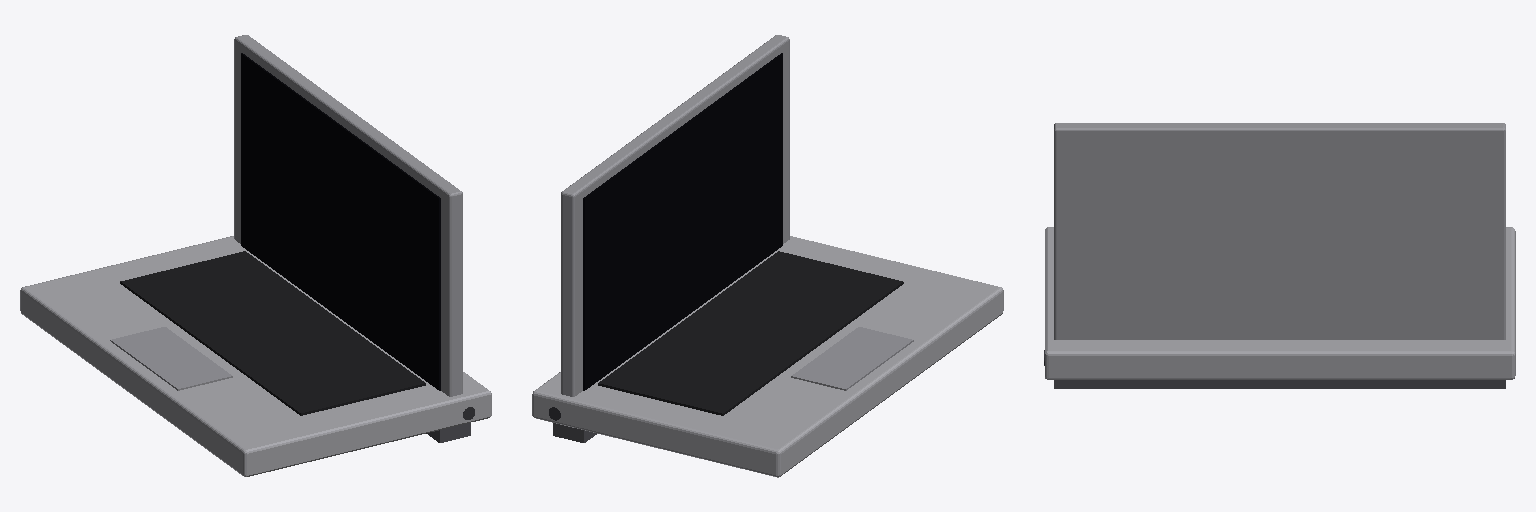
URDF robot description (notebook_2):
<?xml version='1.0' encoding='utf-8'?>
<!-- Video2URDF model "notebook", measured from a video (https://github.com/SungHyunC/video2urdf).
     Mesh and texture paths are relative to this file (meshes/...): this file alone won't load;
     unzip model.zip (the viewer's "Download model + meshes") and load it from there.
     Units: metres, kilograms, radians. Fix the root link "base".
     Collisions are the measured geometry; visuals may be the design, video texture or SAM 3D mesh.
     PyBullet: loadURDF(path, useFixedBase=True, flags=URDF_USE_INERTIA_FROM_FILE).
       PyBullet doesn't apply <dynamics friction>: set VELOCITY_CONTROL, targetVelocity=0,
       force=friction on each joint.
     The collision of "base" (pieces named *_clear_*) is its measured shape trimmed where the
       part jointed to it swings through it over the measured range, so loaders that collide a
       part with the root (MuJoCo's URDF import) don't push it away; inertials are unchanged.
       MuJoCo 3.2.5+: model.xml keeps the untrimmed shapes and excludes those contacts.
     The <mujoco> element only keeps mesh paths for MuJoCo's URDF import; other parsers ignore it.
     ROS: mesh paths must become package://<your_package>/meshes/... for RViz and Gazebo. -->
<robot name="notebook_2">
  <mujoco>
    <compiler strippath="false" />
  </mujoco>
  <link name="base">
    <visual name="design_base_0">
      <origin xyz="0.00000 0.00000 0.00000" rpy="0.00000 0.00000 0.00000" />
      <geometry>
        <mesh filename="meshes/design_base_0.obj" />
      </geometry>
      <material name="design_base_0_color">
        <color rgba="0.67000 0.67000 0.69000 1" />
      </material>
    </visual>
    <visual name="design_base_1">
      <origin xyz="0.02000 0.00000 0.01275" rpy="0.00000 0.00000 0.00000" />
      <geometry>
        <box size="0.08000 0.20000 0.00150" />
      </geometry>
      <material name="design_base_1_color">
        <color rgba="0.16000 0.16000 0.17000 1" />
      </material>
    </visual>
    <visual name="design_base_2">
      <origin xyz="-0.04500 0.00000 0.01250" rpy="0.00000 0.00000 0.00000" />
      <geometry>
        <box size="0.03500 0.07500 0.00100" />
      </geometry>
      <material name="design_base_2_color">
        <color rgba="0.60000 0.60000 0.62000 1" />
      </material>
    </visual>
    <visual name="design_base_3">
      <origin xyz="0.07330 0.00000 0.00170" rpy="-1.57080 -1.57080 0.00000" />
      <geometry>
        <cylinder radius="0.00400" length="0.25000" />
      </geometry>
      <material name="design_base_3_color">
        <color rgba="0.25000 0.25000 0.27000 1" />
      </material>
    </visual>
    <inertial>
      <origin xyz="0.000983581 -7.74387e-19 0.00511656" rpy="1.5708 -1.50883 0" />
      <mass value="0.95" />
      <inertia ixx="0.00863463" ixy="0" ixz="0" iyy="0.0071381" iyz="0" izz="0.00152273" />
    </inertial>
    <collision name="base_clear_0">
      <origin xyz="0 0 0" rpy="0 0 0" />
      <geometry>
        <mesh filename="meshes/base_clear_0.obj" />
      </geometry>
    </collision>
    <collision name="base_clear_1">
      <origin xyz="0 0 0" rpy="0 0 0" />
      <geometry>
        <mesh filename="meshes/base_clear_1.obj" />
      </geometry>
    </collision>
    <collision name="base_clear_2">
      <origin xyz="0 0 0" rpy="0 0 0" />
      <geometry>
        <mesh filename="meshes/base_clear_2.obj" />
      </geometry>
    </collision>
  </link>
  <link name="lid">
    <visual name="design_lid_0">
      <origin xyz="-0.00590 0.00000 -0.00420" rpy="0.00000 0.00000 0.00000" />
      <geometry>
        <box size="0.02020 0.24000 0.02440" />
      </geometry>
      <material name="design_lid_0_color">
        <color rgba="0.35000 0.35000 0.37000 1" />
      </material>
    </visual>
    <visual name="design_lid_1">
      <origin xyz="0.00000 0.00000 0.00000" rpy="0.00000 0.00000 0.00000" />
      <geometry>
        <mesh filename="meshes/design_lid_1.obj" />
      </geometry>
      <material name="design_lid_1_color">
        <color rgba="0.62000 0.62000 0.64000 1" />
      </material>
    </visual>
    <visual name="design_lid_2">
      <origin xyz="-0.00980 0.00000 0.06900" rpy="0.00000 0.00000 0.00000" />
      <geometry>
        <box size="0.00120 0.22000 0.11800" />
      </geometry>
      <material name="design_lid_2_color">
        <color rgba="0.06000 0.06000 0.08000 1" />
      </material>
    </visual>
    <inertial>
      <origin xyz="-0.00679926 2.99811e-18 0.0669546" rpy="1.5708 -0.108748 0" />
      <mass value="0.45" />
      <inertia ixx="0.00399872" ixy="0" ixz="0" iyy="0.00337646" iyz="0" izz="0.000625173" />
    </inertial>
    <collision>
      <origin xyz="0 0 0" rpy="0 0 0" />
      <geometry>
        <mesh filename="meshes/lid.obj" />
      </geometry>
    </collision>
  </link>
  <joint name="lid_joint" type="revolute">
    <parent link="base" />
    <child link="lid" />
    <origin xyz="0.07332 0 0.00169" rpy="0 0 0" />
    <axis xyz="0 -1 0" />
    <limit lower="-0.0683" upper="1.2798" effort="10" velocity="2" />
    <dynamics damping="0.02" friction="0.0377475" />
  </joint>
</robot>

--- What the picture shows (computed from the rendered views, not written in the file) ---
3 views of the same robot in one strip: view 1: azimuth 30°, elevation 25°; view 2: azimuth 150°, elevation 25°; view 3: azimuth 270°, elevation 25° (orthographic).
Robot: notebook_2 — 2 links, 1 joints (1 revolute); root link base; default pose: all joints at 0.
Visible links, largest first — view 1: base, lid; view 2: base, lid; view 3: lid, base.
Link boxes in pixels (x1=…): base: x1=20, y1=236, x2=491, y2=476; lid: x1=234, y1=35, x2=470, y2=442; base: x1=532, y1=236, x2=1003, y2=477; lid: x1=553, y1=35, x2=789, y2=442; lid: x1=1054, y1=123, x2=1505, y2=388; base: x1=1044, y1=227, x2=1515, y2=379.
Size in the robot's own frame: 0.1589 by 0.25 by 0.1504 metres.
Meshes: 2 distinct files referenced, 2 mesh visuals loaded (2 OBJ).
